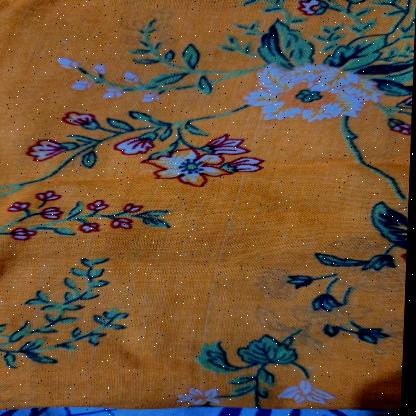spot: (104, 216, 278, 278)
